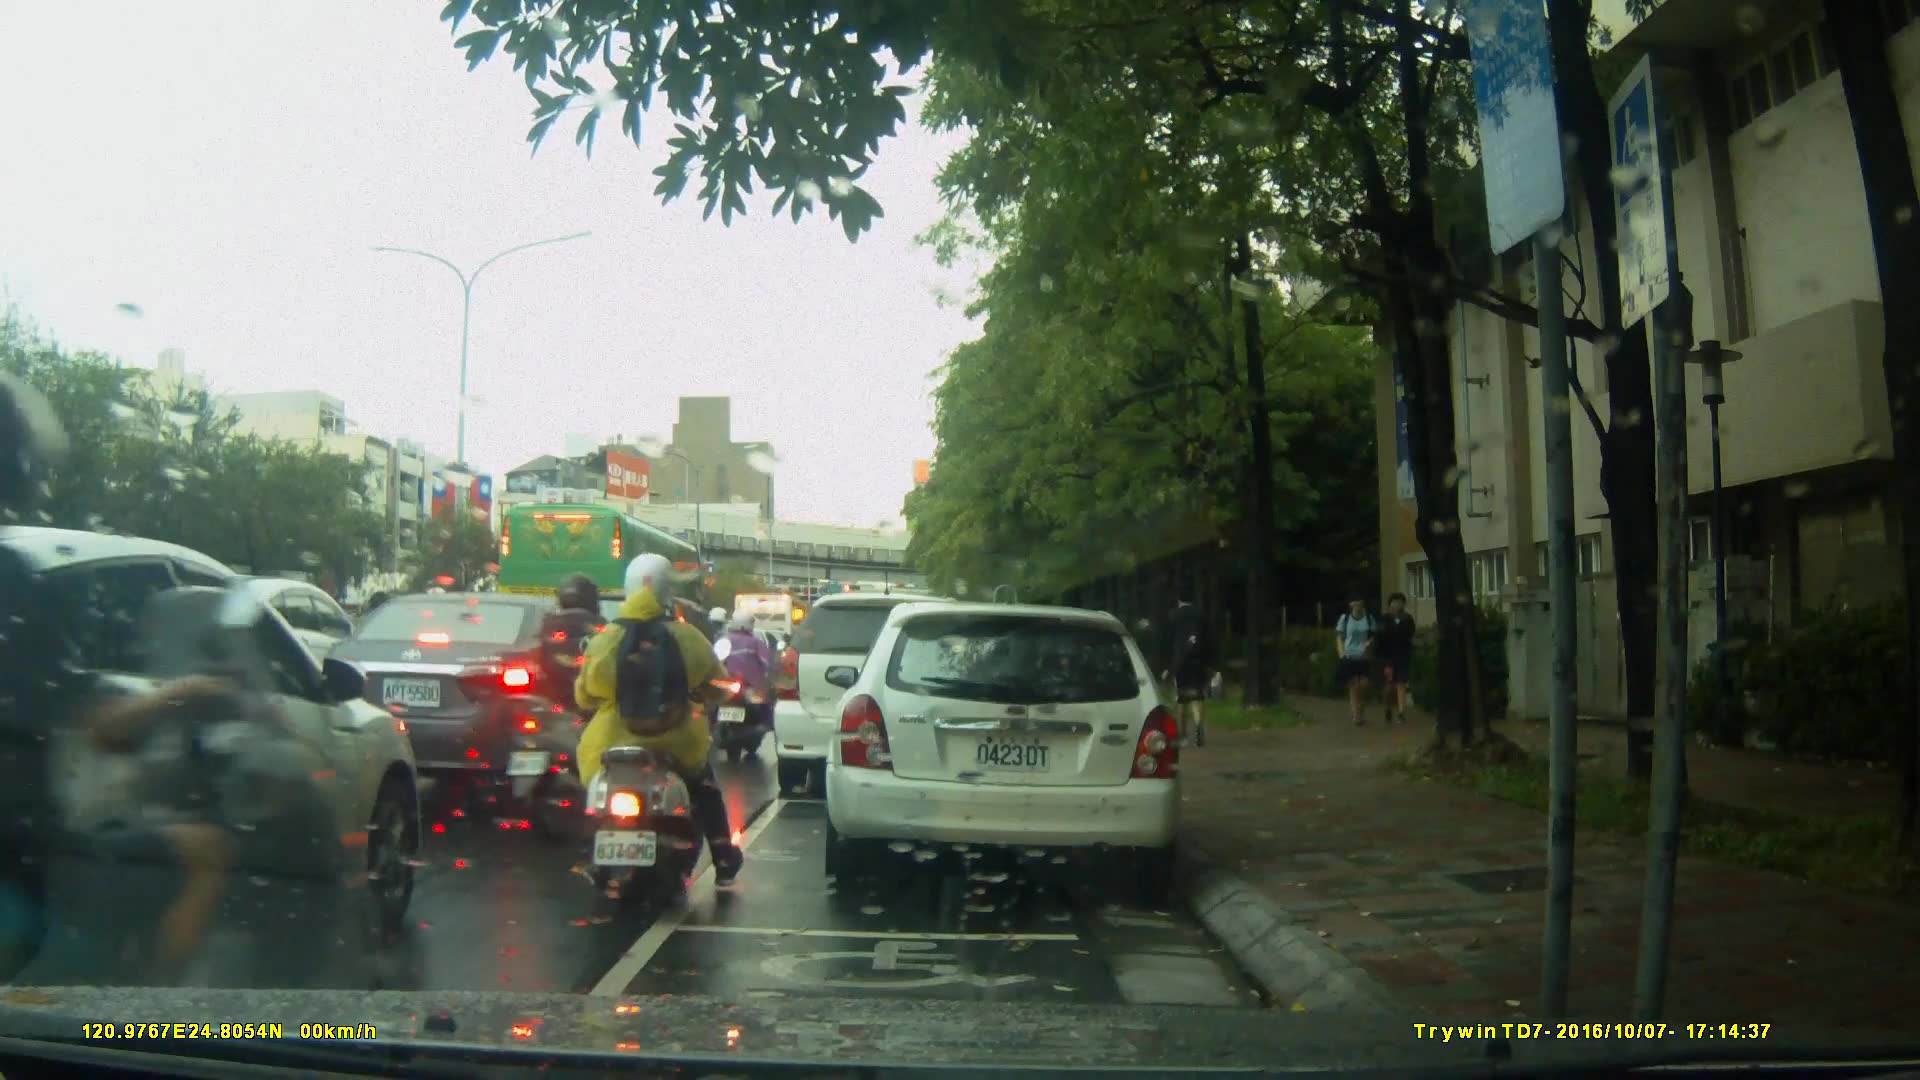pedestrian: (1158, 583, 1216, 753), (1329, 586, 1382, 735), (1375, 586, 1415, 731)
rider: (1, 378, 419, 1080), (580, 552, 745, 896), (504, 582, 682, 837), (717, 606, 787, 763)
vehicle: (1, 522, 425, 986), (831, 592, 1196, 897), (316, 594, 663, 798), (770, 592, 999, 800), (495, 502, 708, 640)
